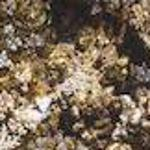alive: (9, 14, 136, 143)
